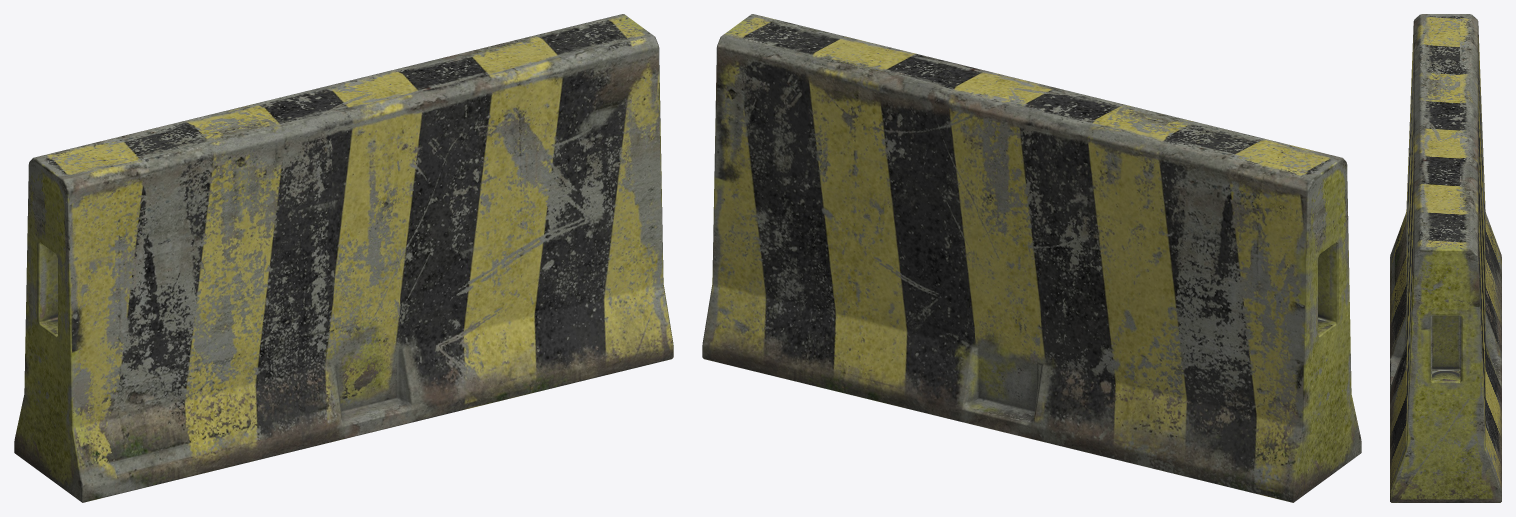
File: concrete_barrier.glb
3 views of the same model, side by side, from view 1: azimuth 30°, elevation 25°; view 2: azimuth 150°, elevation 25°; view 3: azimuth 270°, elevation 25° (orthographic). The views are drawn at different scales.
Visible parts, largest first — view 1: Cube; view 2: Cube; view 3: Cube.
Part boxes in pixels (x1,y1,x2,y2): Cube: (14, 14, 673, 502); Cube: (702, 14, 1361, 502); Cube: (1390, 14, 1501, 502).
Bounding box in the file's own units: 2 × 1 × 0.4.
1 material, 1 textured.
